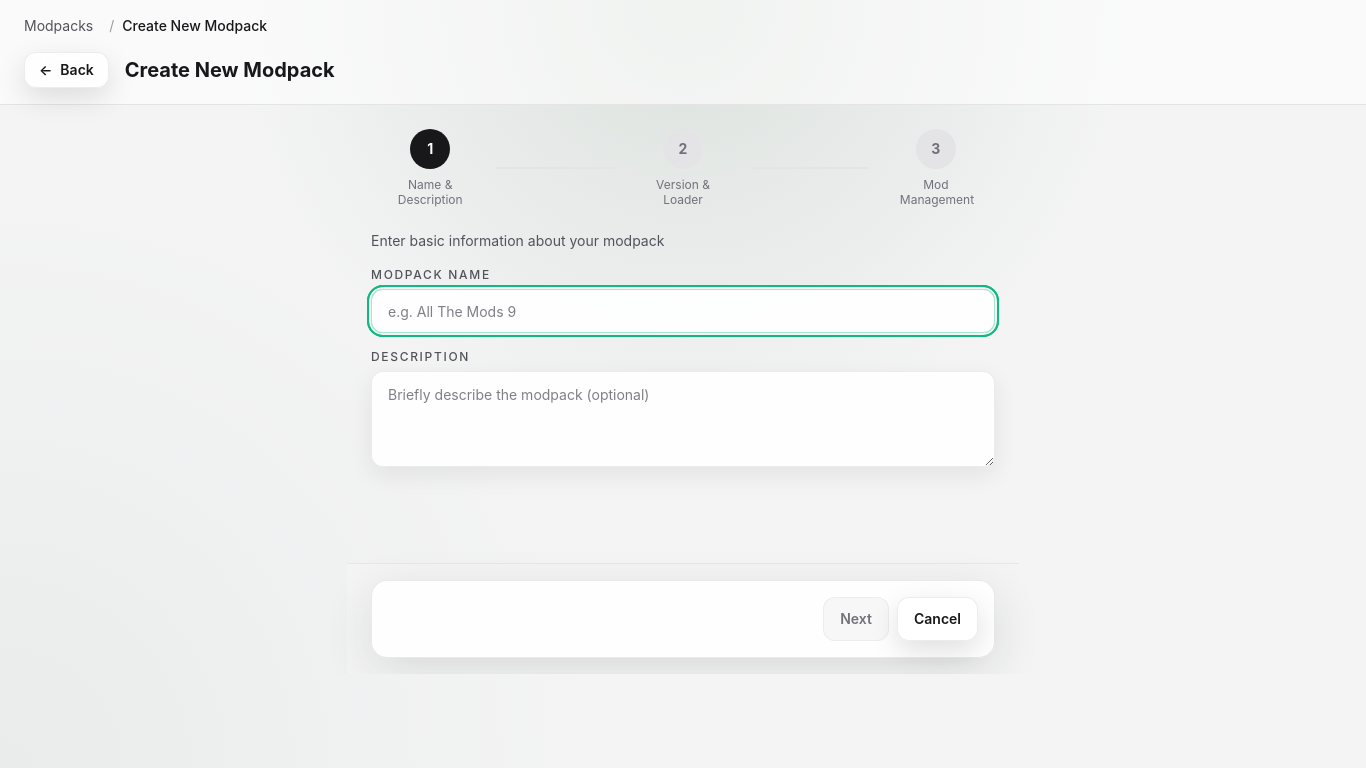
Create wizard dependency truth › shows the wizard step-two summary with the same selected runtime dependency truth
The image size is (1366, 768).
Step 1. Type "Beta Pack" into the field labelled "Modpack name" → coordinates (683, 311), box top-left (371, 289), bottom-right (995, 333)
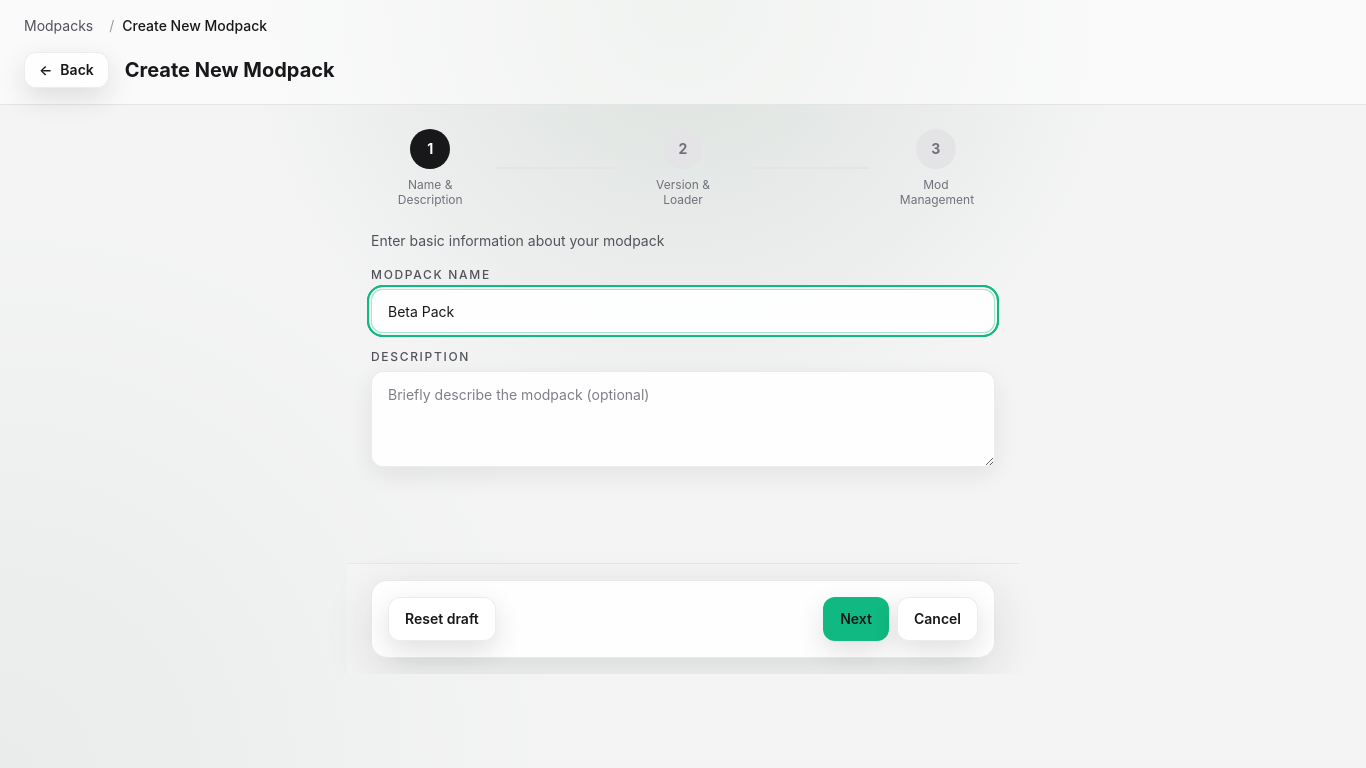
Step 2. Click the button "Next" → coordinates (856, 619), box top-left (823, 597), bottom-right (889, 641)
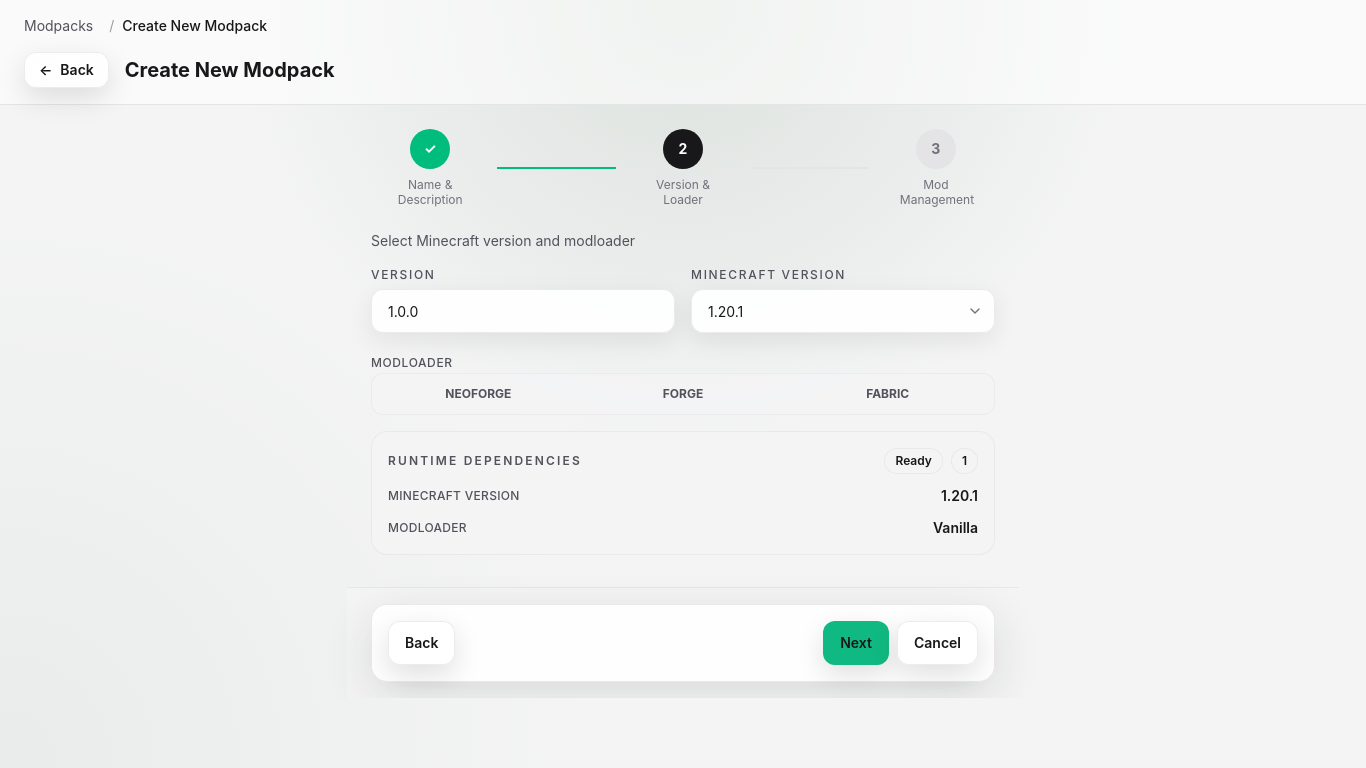
Step 3. Click the button "NeoForge" → coordinates (478, 394), box top-left (376, 378), bottom-right (581, 410)
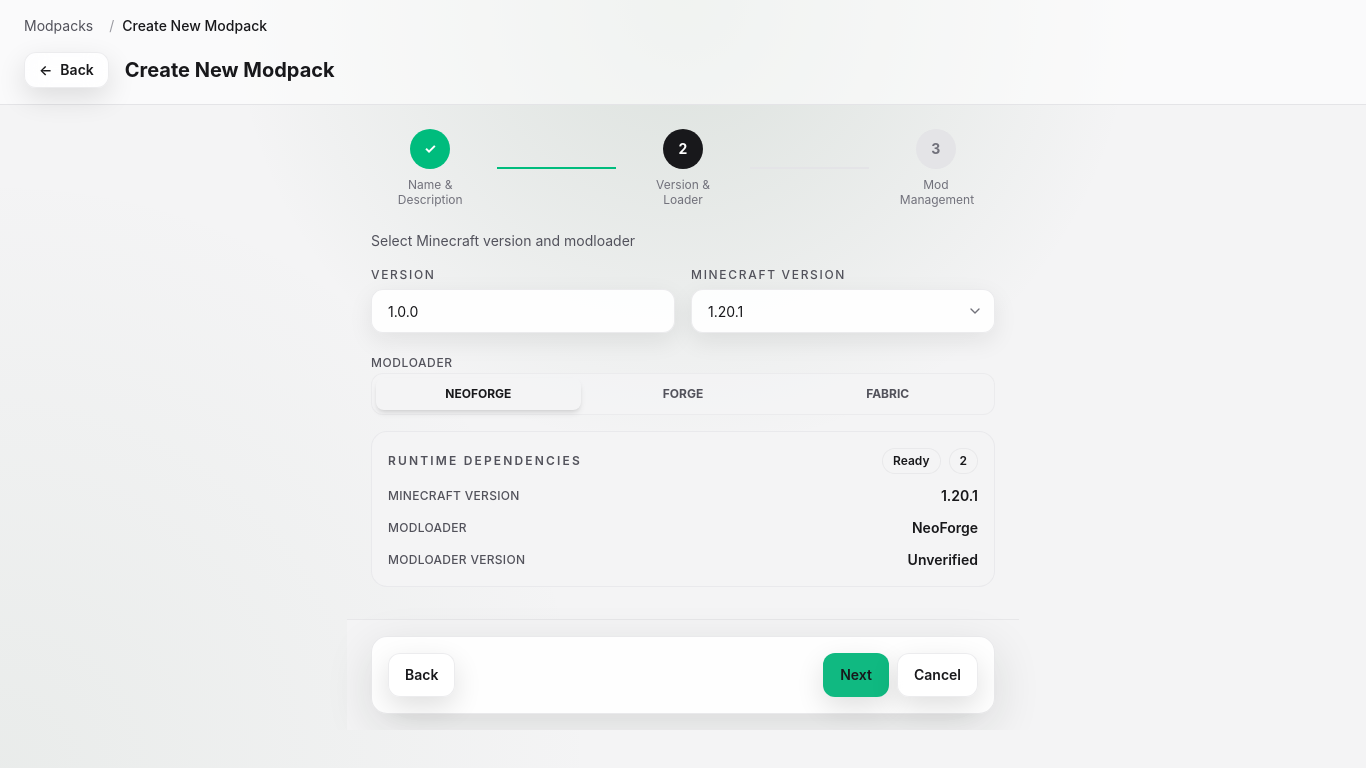
Now the text "Runtime dependencies" is shown, box top-left (388, 453), bottom-right (582, 469)
Now the text "Minecraft Version" is shown, box top-left (388, 488), bottom-right (520, 504)
Now the text with test id "modpack-dependency-count" reads "2", box top-left (960, 453), bottom-right (967, 468)
